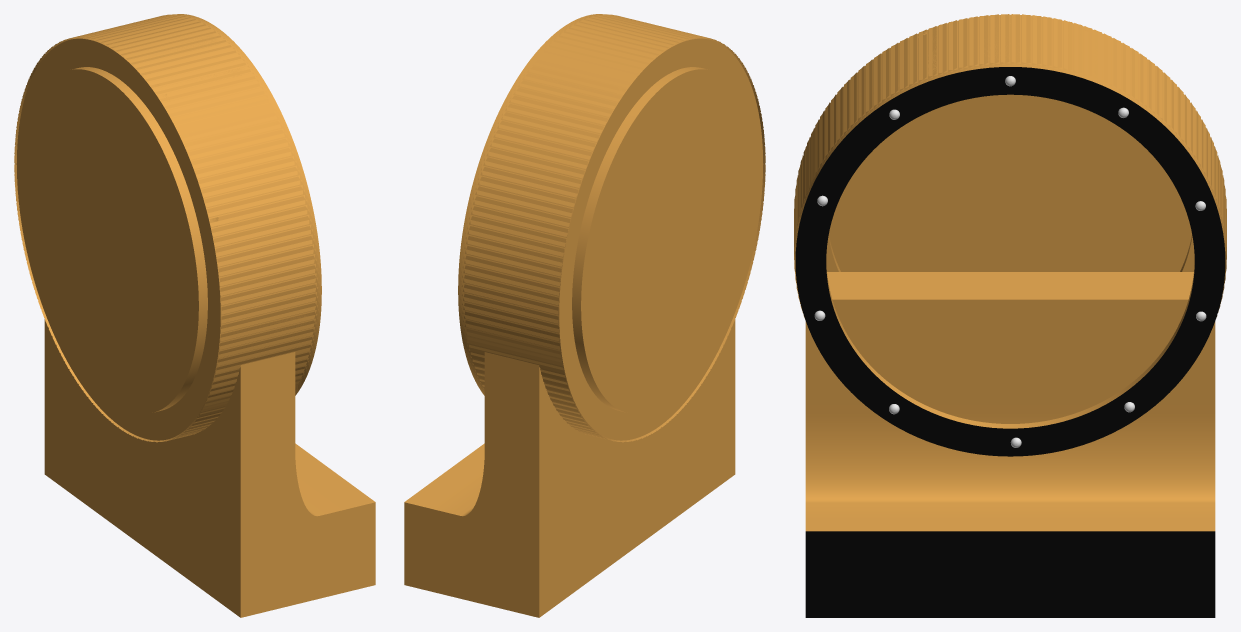
The picture shows the model from 3 angles, left to right: view 1: azimuth 30°, elevation 25°; view 2: azimuth 150°, elevation 25°; view 3: azimuth 270°, elevation 25°; orthographic projection. The views are drawn at different scales.
Parts seen in each view (by area): view 1: Contorno, Base; view 2: Contorno, Base; view 3: Base, Contorno, Luces.
Boxes of the visible parts, x1,y1,x2,y2 form: Contorno: (14,14,321,442); Base: (44,319,375,617); Contorno: (458,14,765,442); Base: (404,319,735,617); Base: (805,272,1215,617); Contorno: (794,14,1226,456); Luces: (814,76,1206,447).
Bounding box in the file's own units: 2.11 × 6.04 × 4.53.
